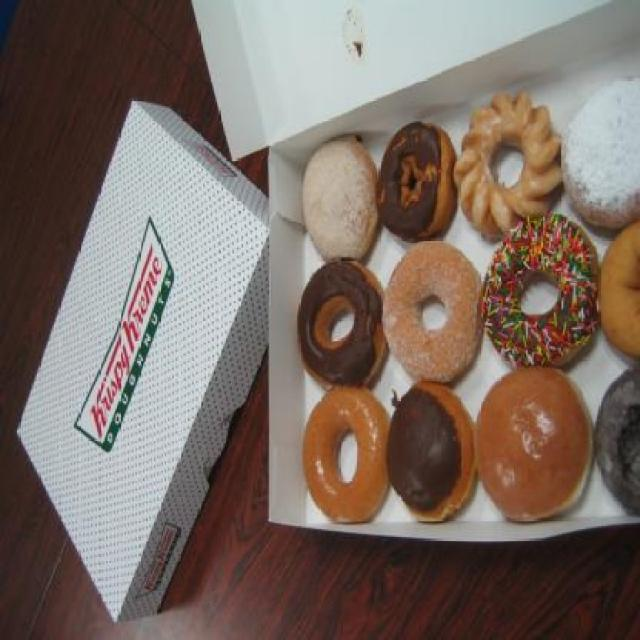Bagel: (472, 371, 598, 522)
